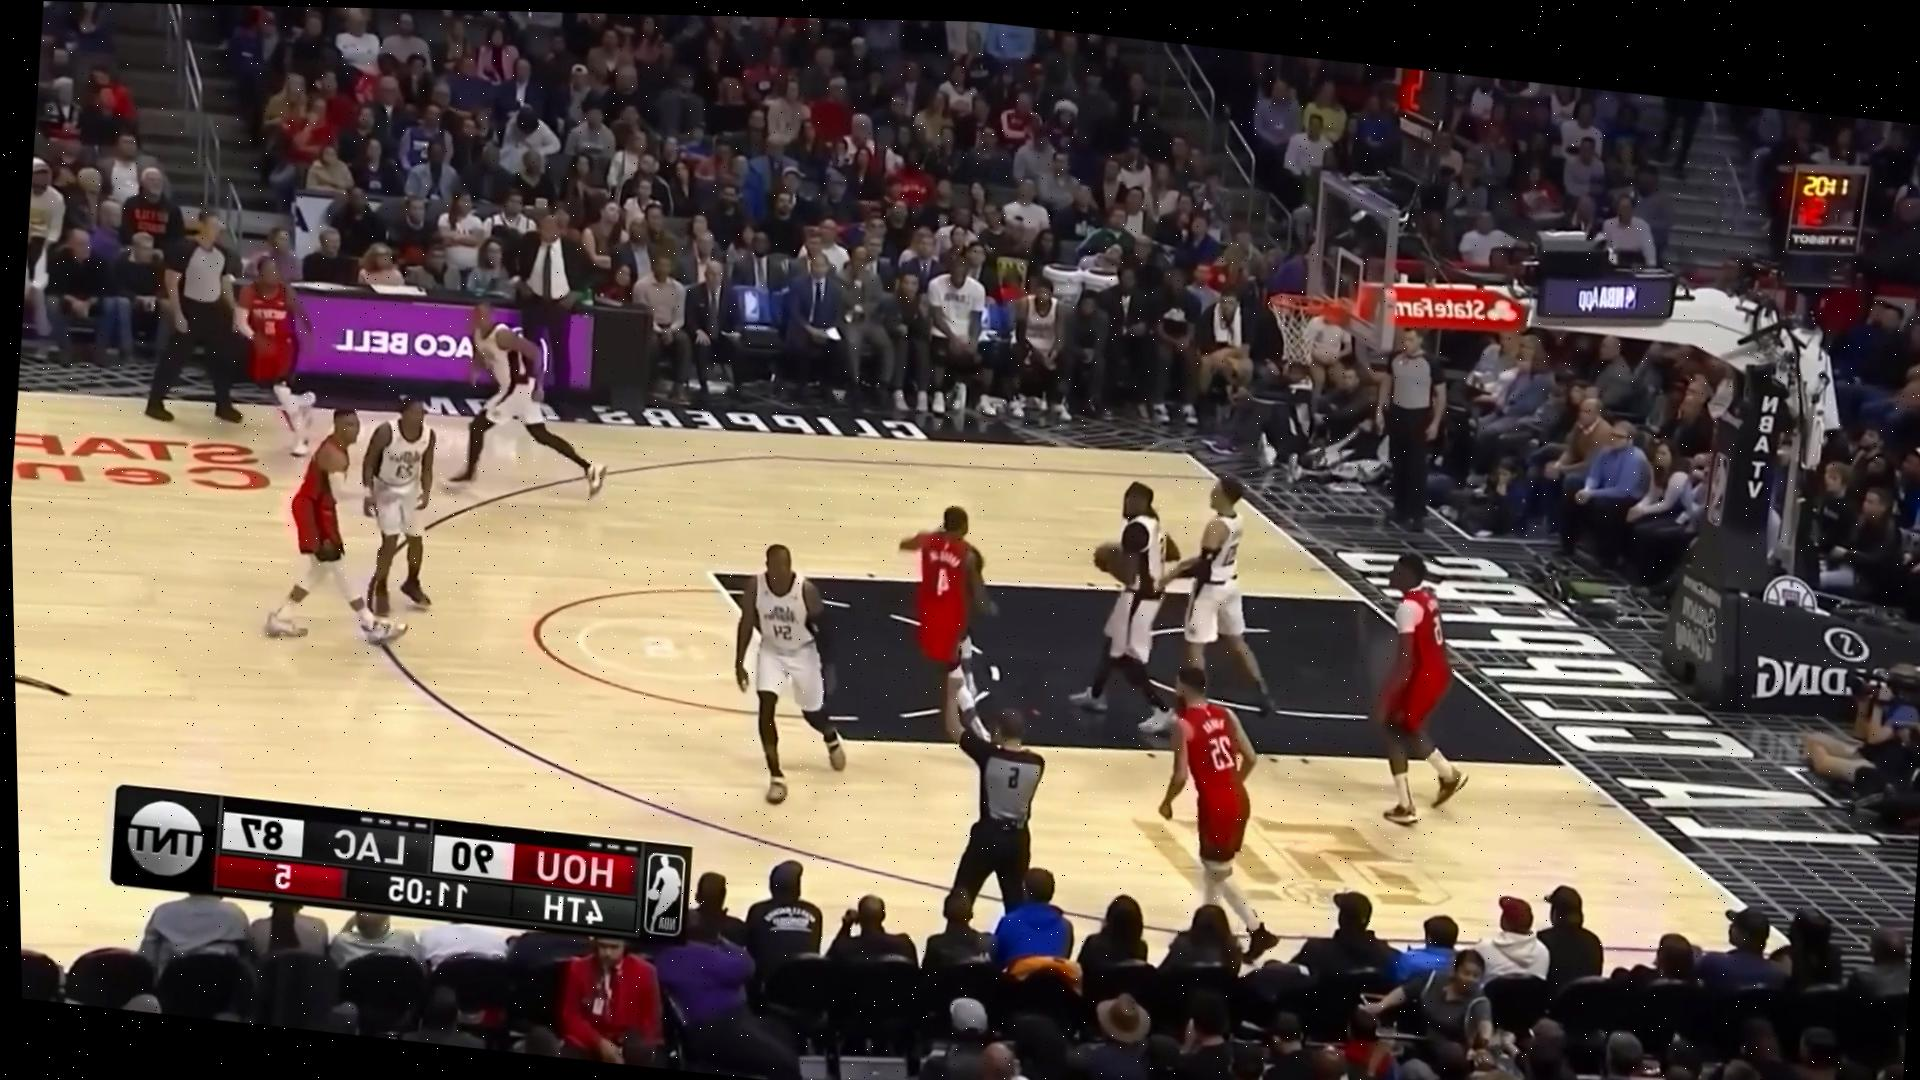no_foul: (1080, 446, 1304, 723)
